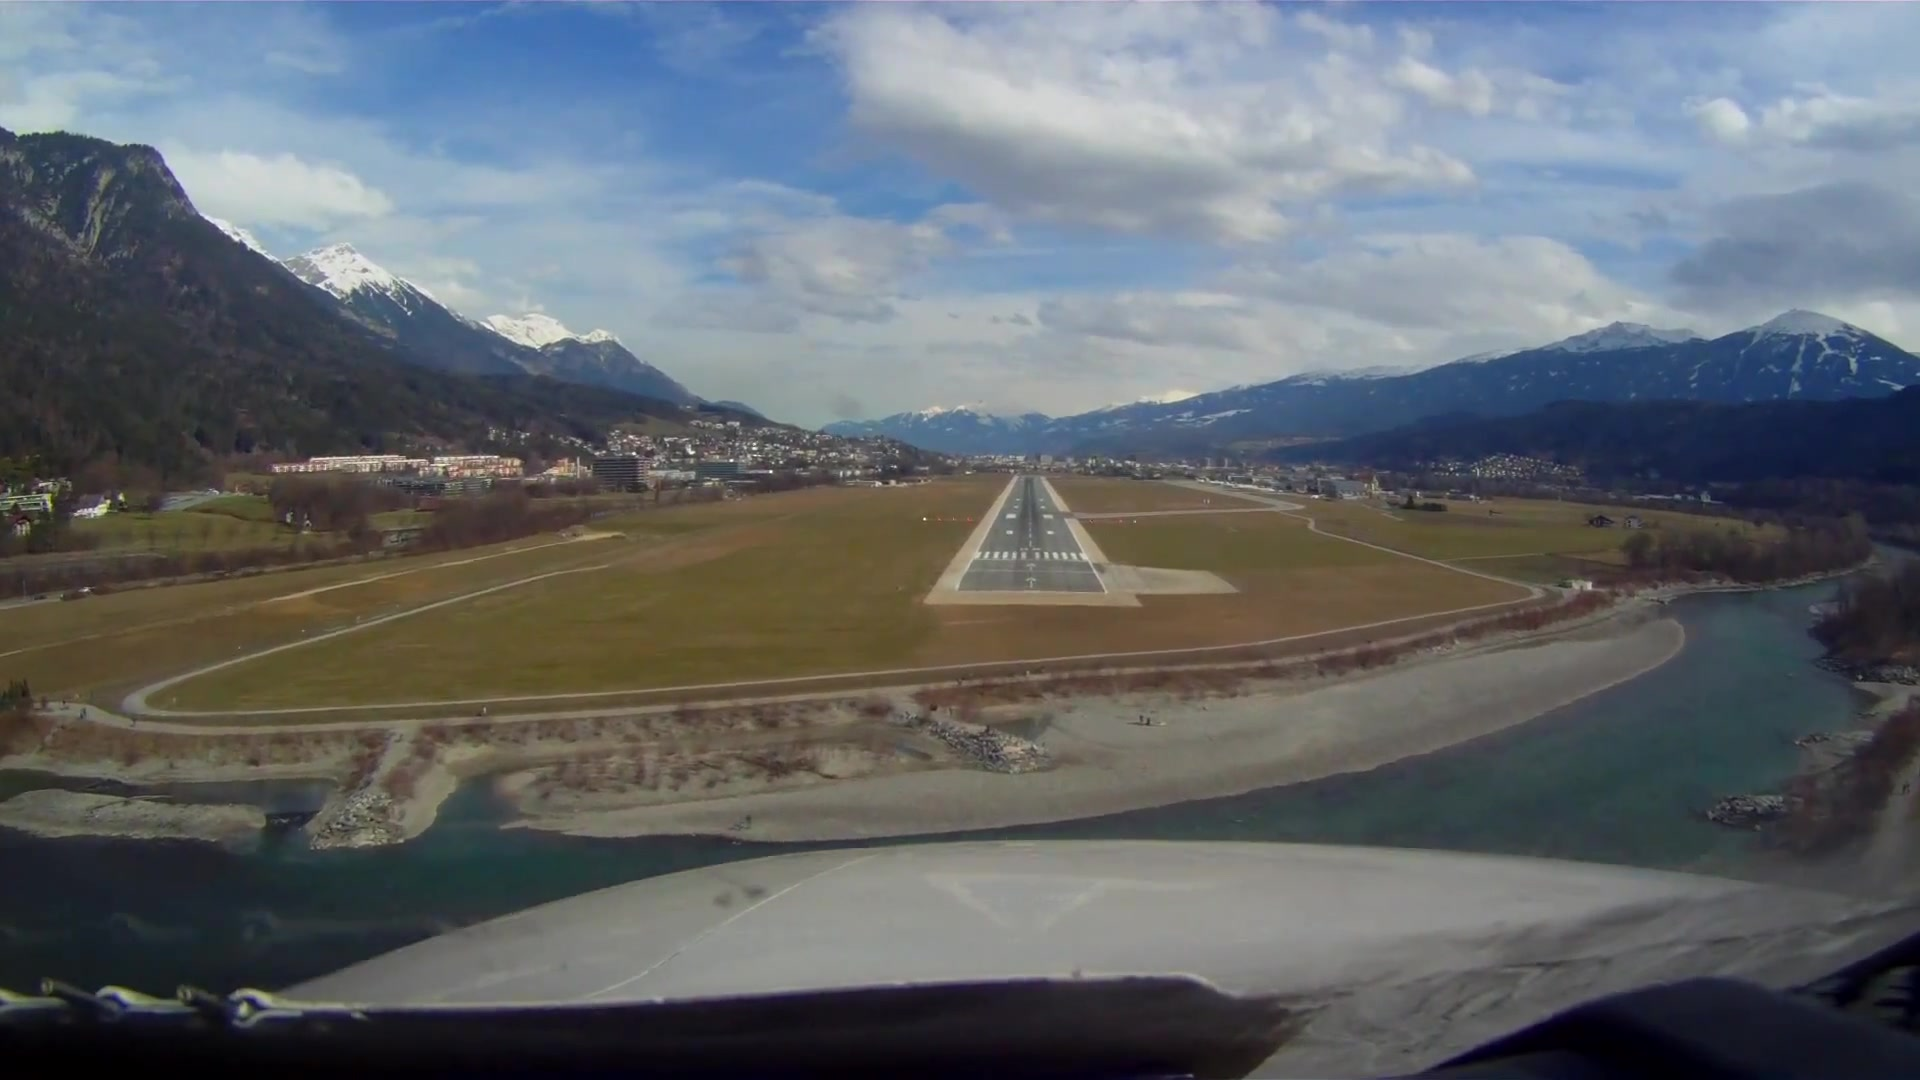entrance: (971, 551, 1092, 562)
runway: (957, 477, 1100, 588)
